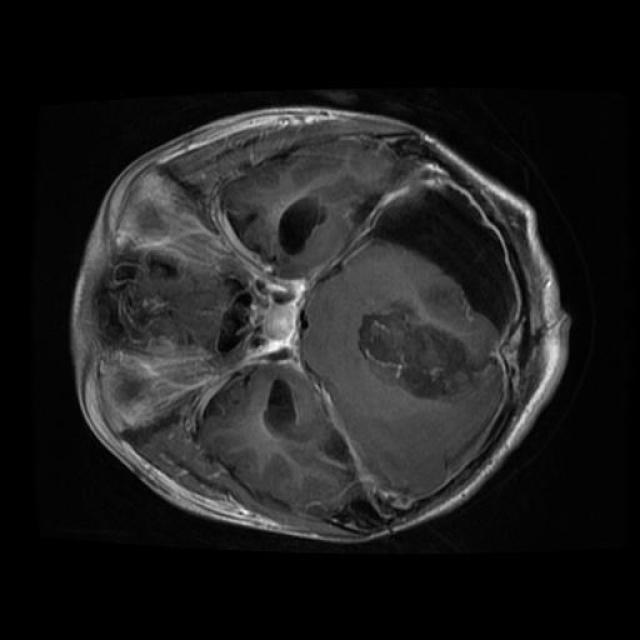Glioma: (359, 187, 516, 398)
